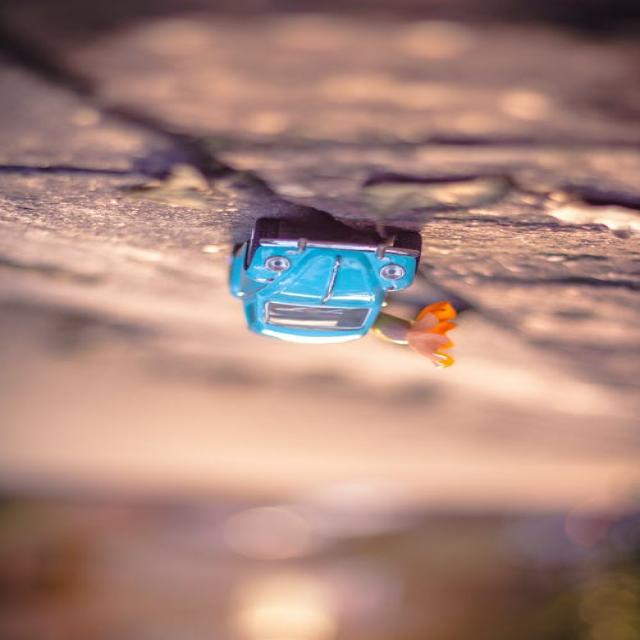Car: (227, 218, 422, 344)
